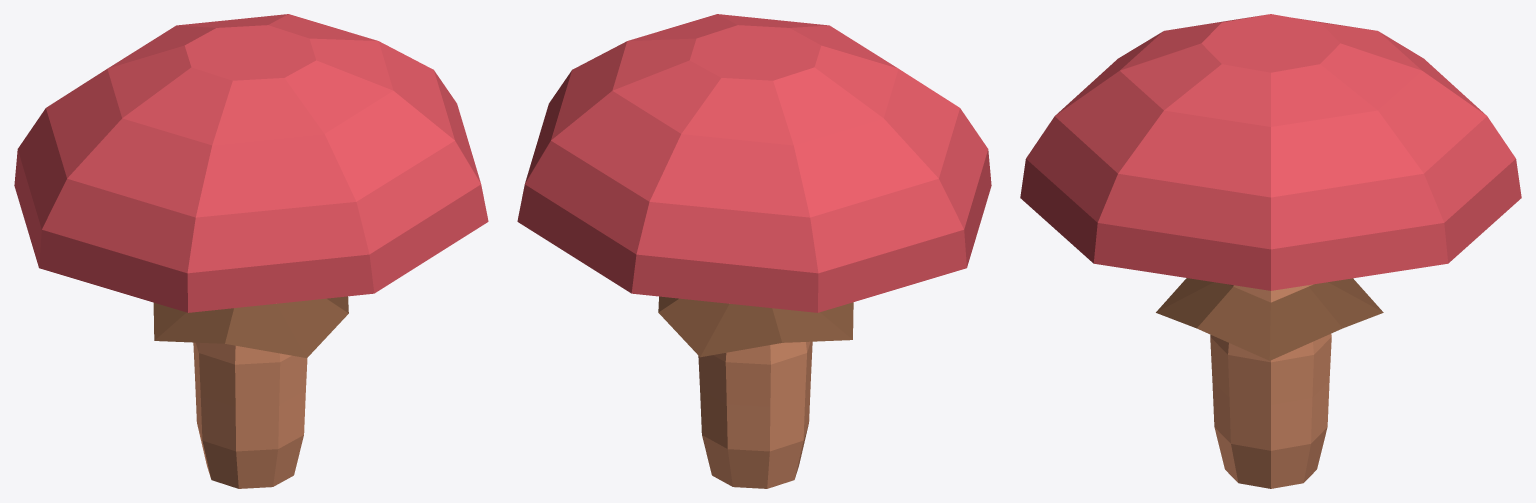
File: Mushroom007.fbx
The picture shows the model from 3 angles, left to right: view 1: azimuth 30°, elevation 25°; view 2: azimuth 150°, elevation 25°; view 3: azimuth 270°, elevation 25°; orthographic projection. The views are drawn at different scales.
Parts seen in each view (by area): view 1: Mushroom007; view 2: Mushroom007; view 3: Mushroom007.
Boxes of the visible parts, x1,y1,x2,y2 form: Mushroom007: [14, 14, 488, 488]; Mushroom007: [517, 14, 991, 488]; Mushroom007: [1020, 14, 1521, 488].
Bounding box in the file's own units: 0.514 × 0.4827 × 0.5148.
